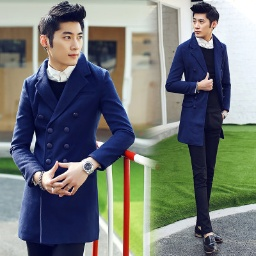face: (37, 2, 88, 66), (189, 3, 220, 40)
